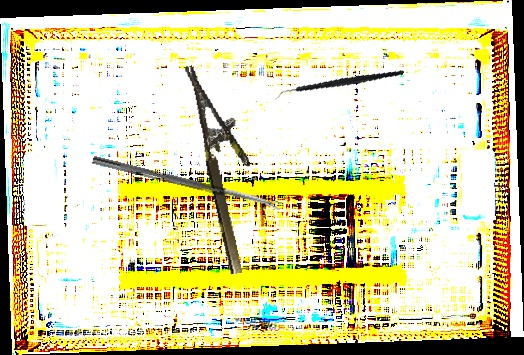Chopper: (274, 46, 405, 125)
Needle Holder: (184, 57, 272, 276)
Surgical Spoon: (91, 155, 283, 212)
